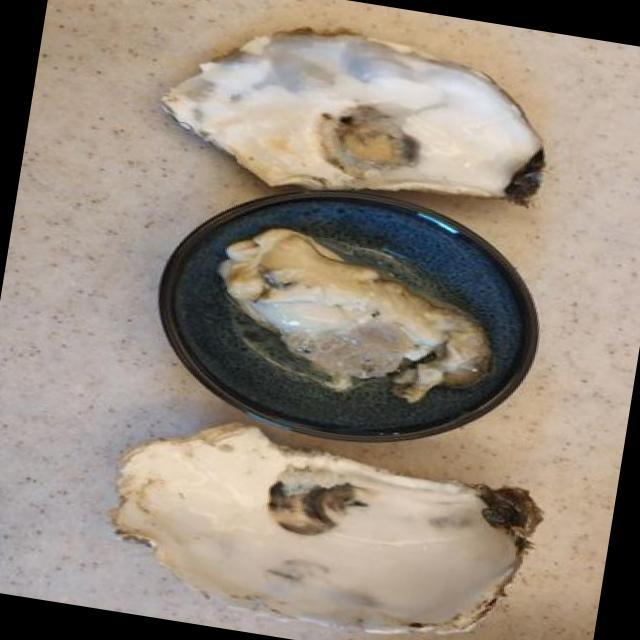Oyster-Open: (87, 398, 552, 640), (143, 0, 573, 231)
